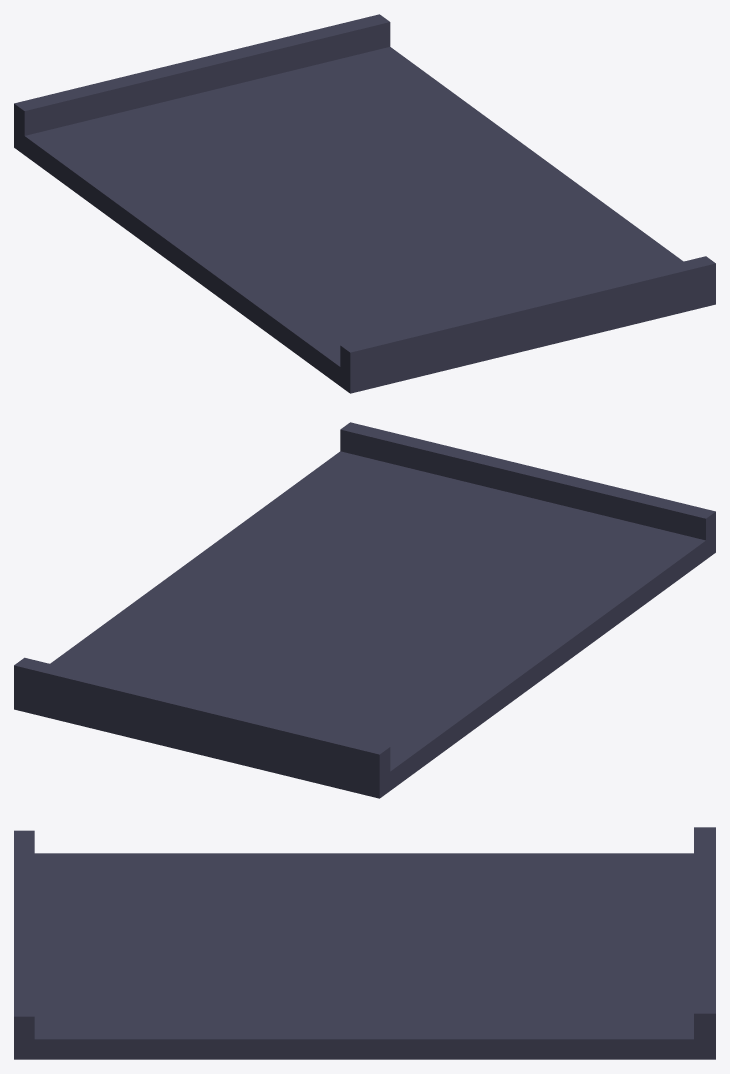
Rendered from поднос.fbx.
3 renders of one model, top to bottom at view 1: azimuth 30°, elevation 25°; view 2: azimuth 150°, elevation 25°; view 3: azimuth 270°, elevation 25°, orthographic. The views are drawn at different scales.
Parts seen in each view (by area): view 1: Cube.015; view 2: Cube.015; view 3: Cube.015.
Part boxes in pixels (left/top/right/bottom): Cube.015: left=14, top=14, right=715, bottom=393; Cube.015: left=14, top=422, right=715, bottom=798; Cube.015: left=14, top=827, right=715, bottom=1059.
Bounding box in the file's own units: 60.31 × 6.95 × 96.06.
